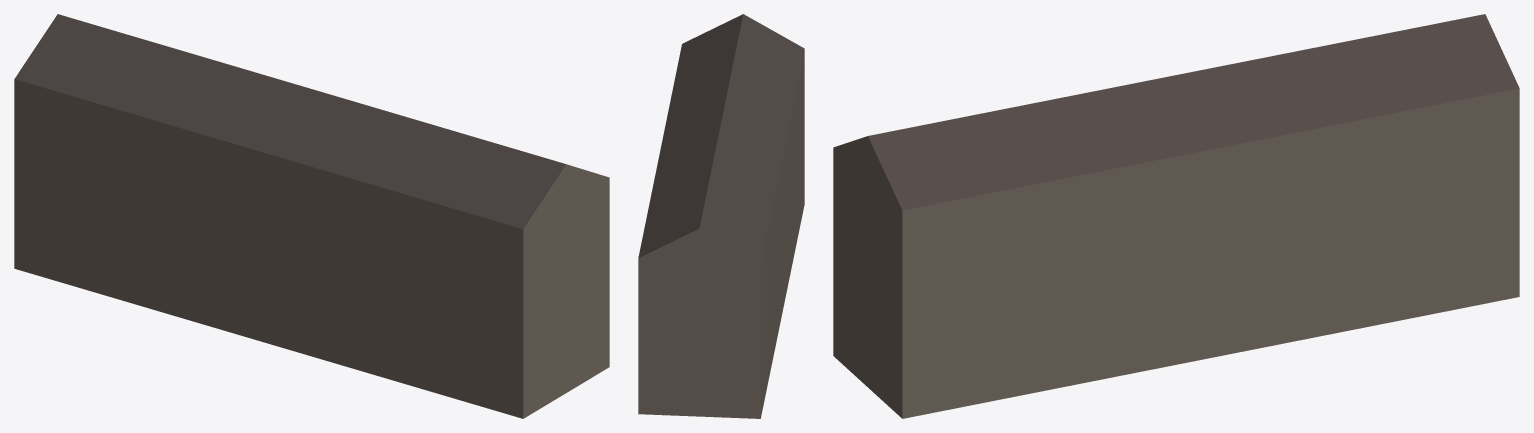
The picture shows the model from 3 angles, left to right: view 1: azimuth 30°, elevation 25°; view 2: azimuth 150°, elevation 25°; view 3: azimuth 270°, elevation 25°; orthographic projection. The views are drawn at different scales.
Parts seen in each view (by area): view 1: HP-w761940187; view 2: HP-w761940187; view 3: HP-w761940187.
Boxes of the visible parts, x1,y1,x2,y2 form: HP-w761940187: (14,14,609,418); HP-w761940187: (638,14,804,418); HP-w761940187: (833,14,1519,418).
Bounding box in the file's own units: 11.43 × 7.24 × 17.92.
